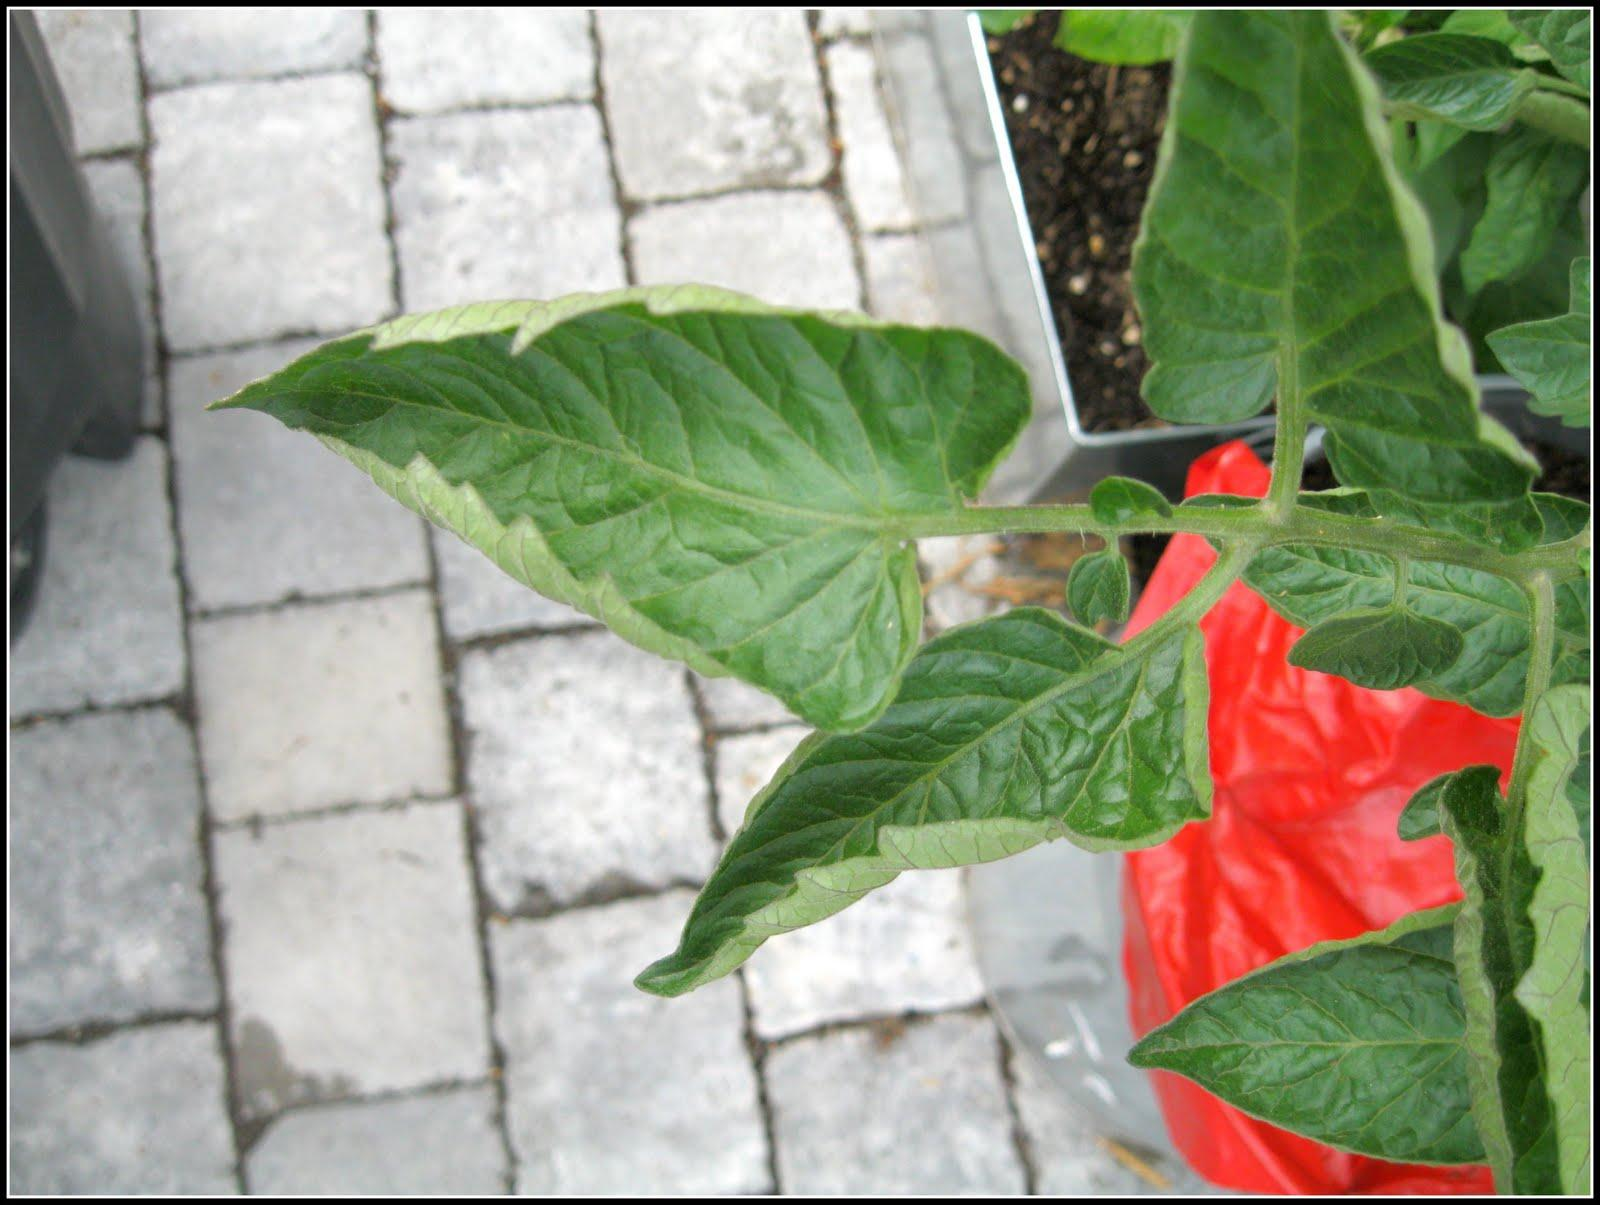Tomato leaf: (246, 297, 1034, 734), (628, 592, 1234, 1049), (1123, 8, 1542, 511)
